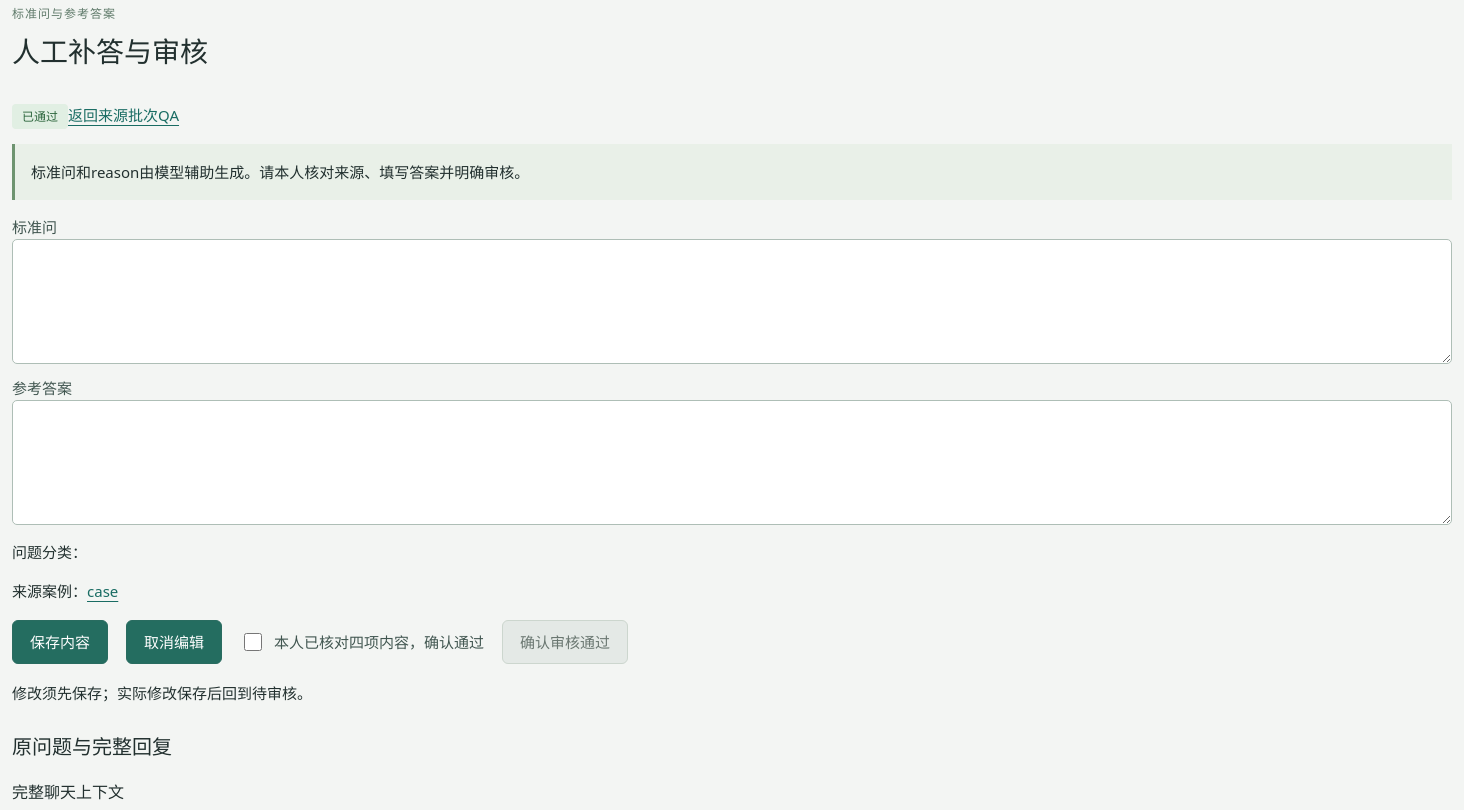
Scenario: 权威后端结果展示 › 未保存编辑不能审核，取消编辑可还原
Click the checkbox.
click(253, 642)  # box [244,633,262,651]
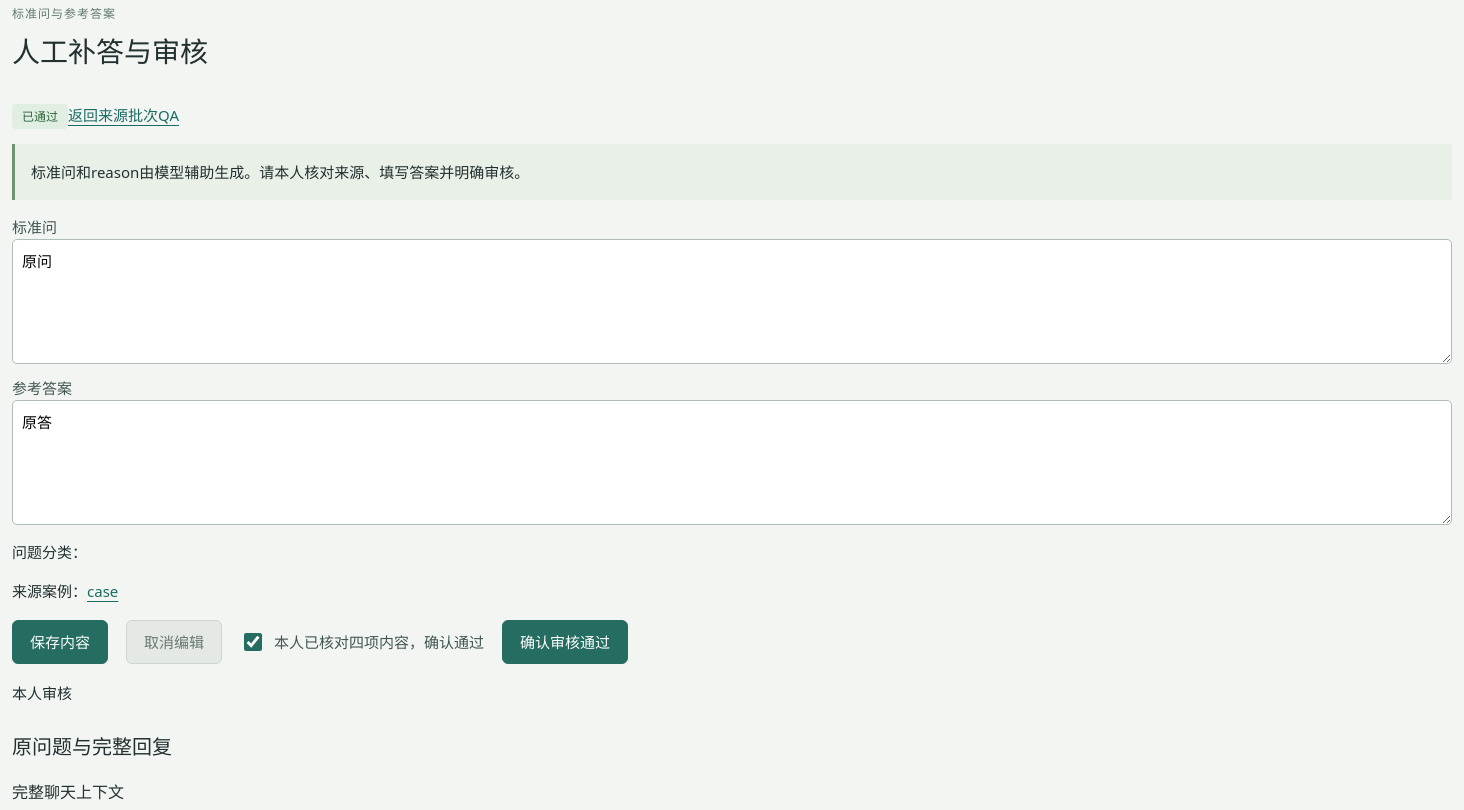
Check: the button "确认审核通过" is enabled, box [502,620,628,664]
Replace the text in the text box labelled "标准问" with "改问" at x=732, y=302, box [12,239,1452,364]
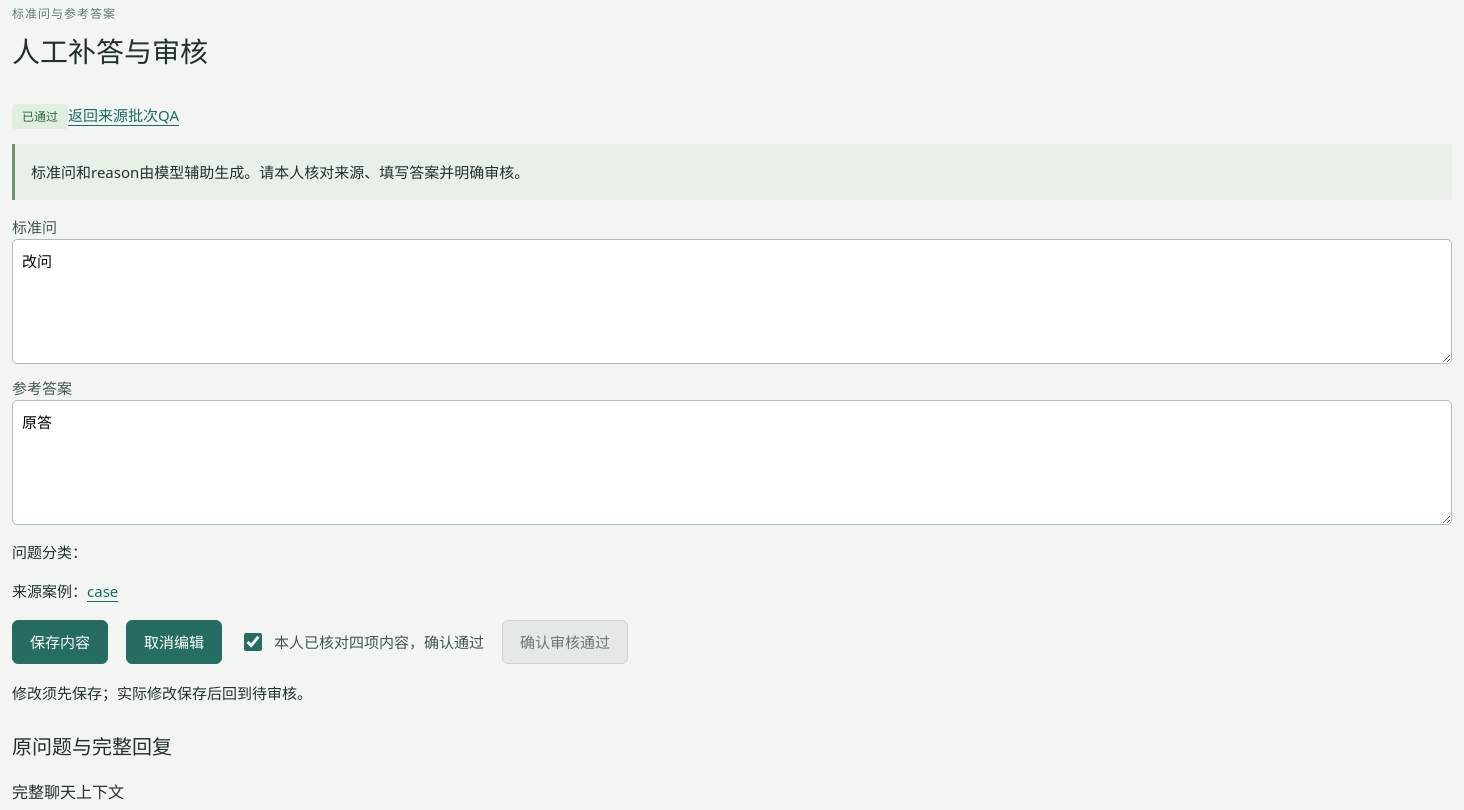
Check: the button "确认审核通过" is disabled, box [502,620,628,664]
Click the button "取消编辑".
click(174, 642)  # box [126,620,222,664]
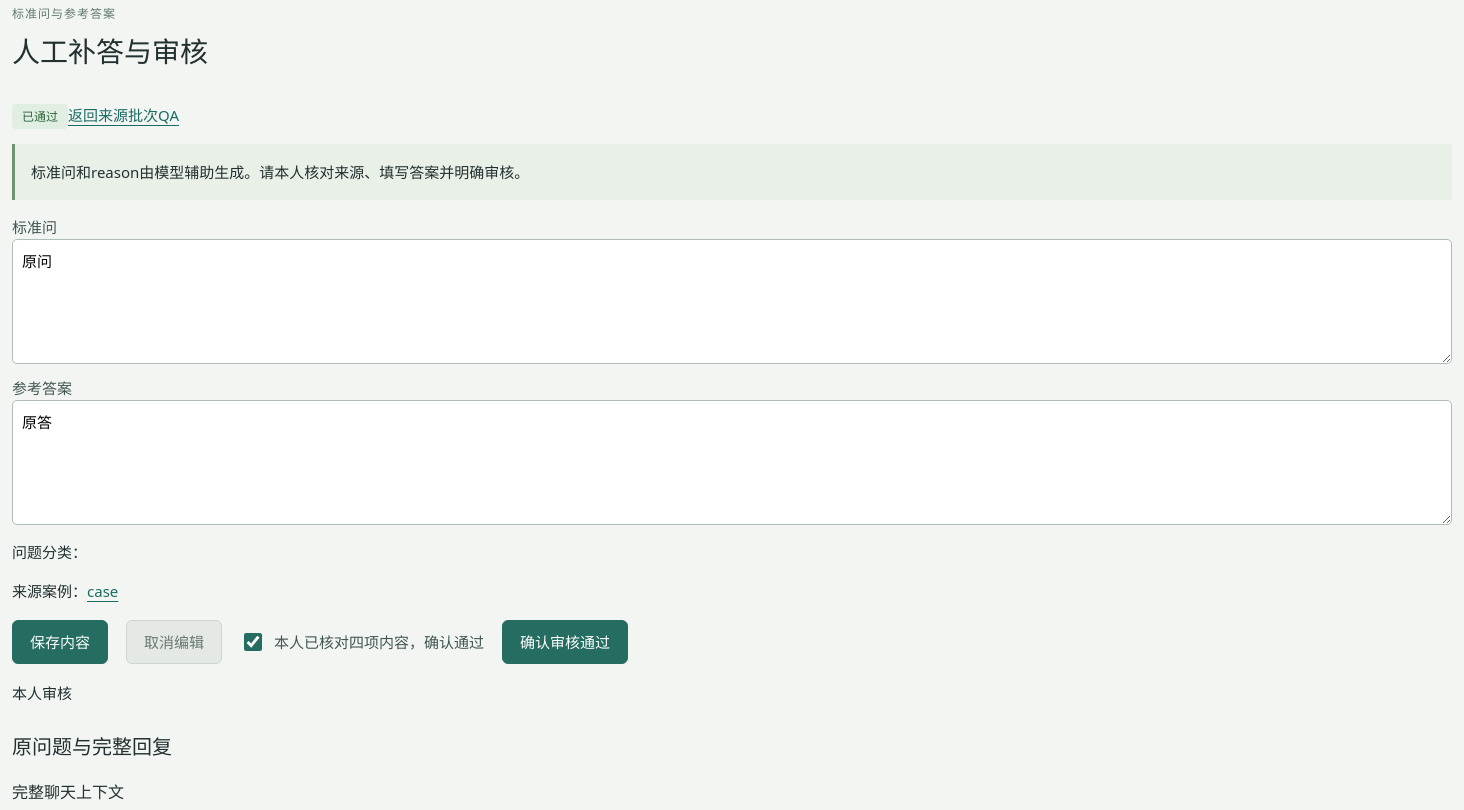
Check: the text box labelled "标准问" holds "原问", box [12,239,1452,364]
Check: the button "确认审核通过" is enabled, box [502,620,628,664]
